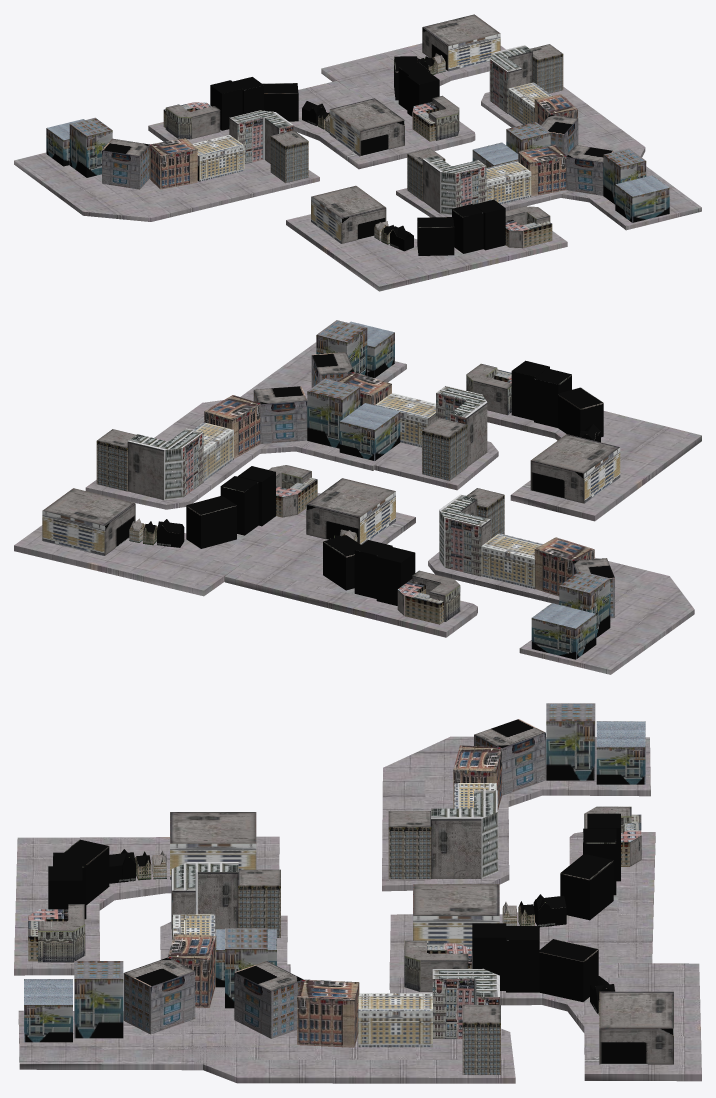
File: The City2.obj
3 views of the same model, one above another, from view 1: azimuth 30°, elevation 25°; view 2: azimuth 150°, elevation 25°; view 3: azimuth 270°, elevation 25° (orthographic). The views are drawn at different scales.
Parts seen in each view (by area): view 1: mesh01; view 2: mesh01; view 3: mesh01.
Boxes of the visible parts, box(x1,y1,x2,y2) form: mesh01: box(14, 14, 701, 291); mesh01: box(14, 320, 701, 674); mesh01: box(14, 703, 701, 1083).
Size of the model in its own units: 199 by 18.14 by 169.
